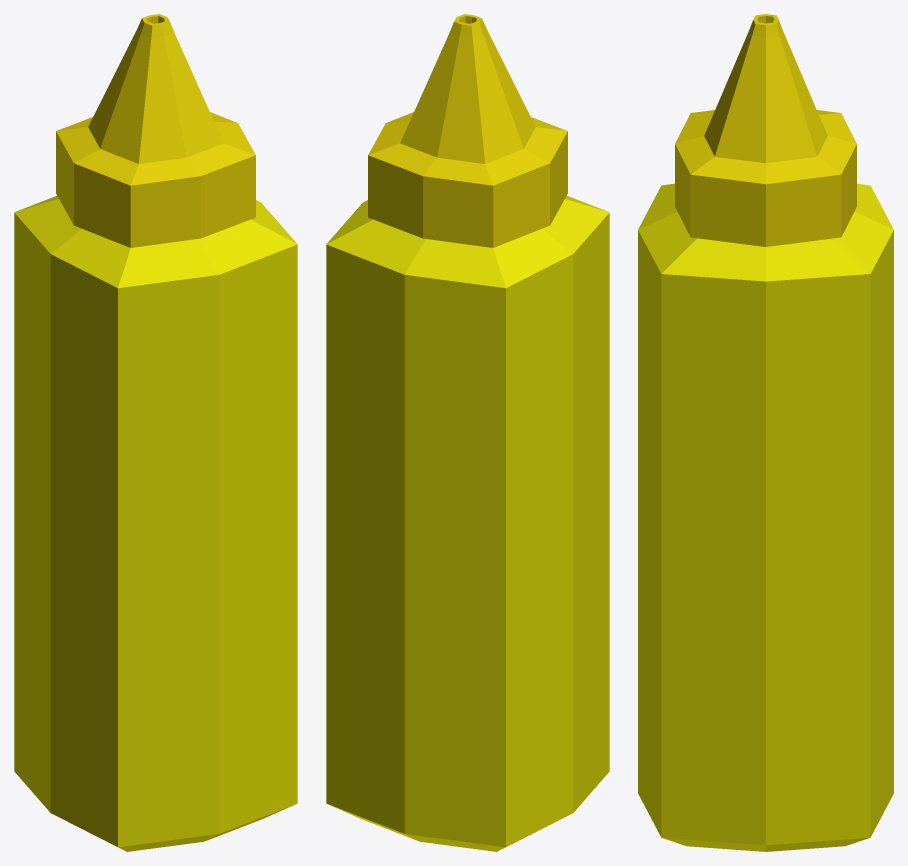
The model's file is MUSTAARD.fbx.
3 renders of one model, left to right at view 1: azimuth 30°, elevation 25°; view 2: azimuth 150°, elevation 25°; view 3: azimuth 270°, elevation 25°, orthographic.
Parts seen in each view (by area): view 1: Cube, Cube.001; view 2: Cube, Cube.001; view 3: Cube, Cube.001.
Part boxes in pixels (left/top/right/bottom): Cube: left=14, top=196, right=297, bottom=851; Cube.001: left=56, top=14, right=255, bottom=247; Cube: left=326, top=196, right=609, bottom=851; Cube.001: left=368, top=14, right=567, bottom=247; Cube: left=638, top=183, right=893, bottom=851; Cube.001: left=675, top=14, right=856, bottom=246.
Bounding box in the file's own units: 265 × 953 × 276.
